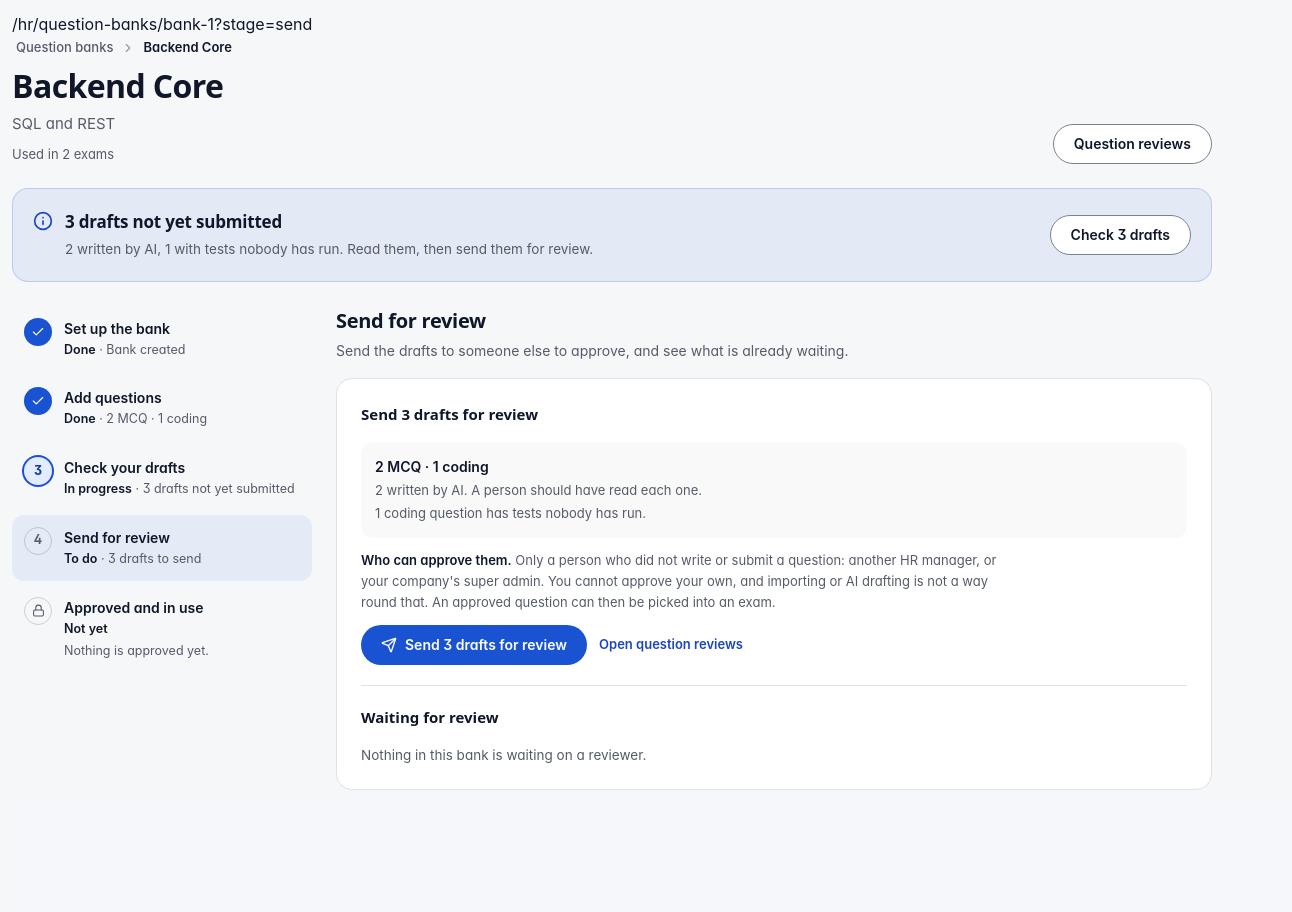
Test case: QuestionBankFlow - send for review › counts the batch by kind, says who can approve, and submits the whole bank
Check: the element with test id "send-summary" shows "2 MCQ · 1 coding", box [375, 458, 489, 475]
Check: the element with test id "send-summary" shows "2 written by AI", box [361, 442, 1187, 538]
Click the button "Send 3 drafts for review": [474, 645] box [361, 625, 587, 665]
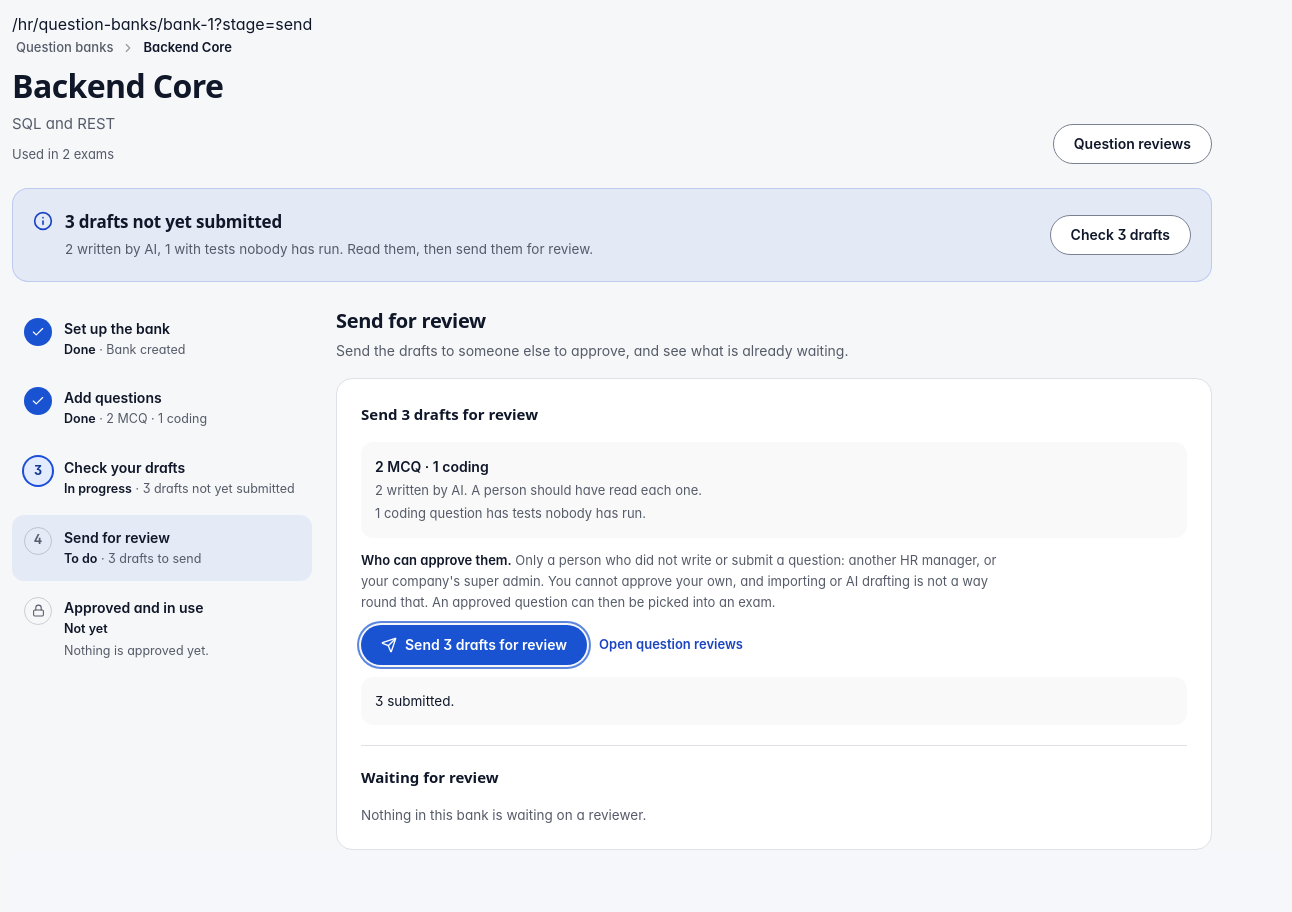
Check: the message with test id "bank-bulk-result" reads "3 submitted.", box [361, 677, 1187, 726]
